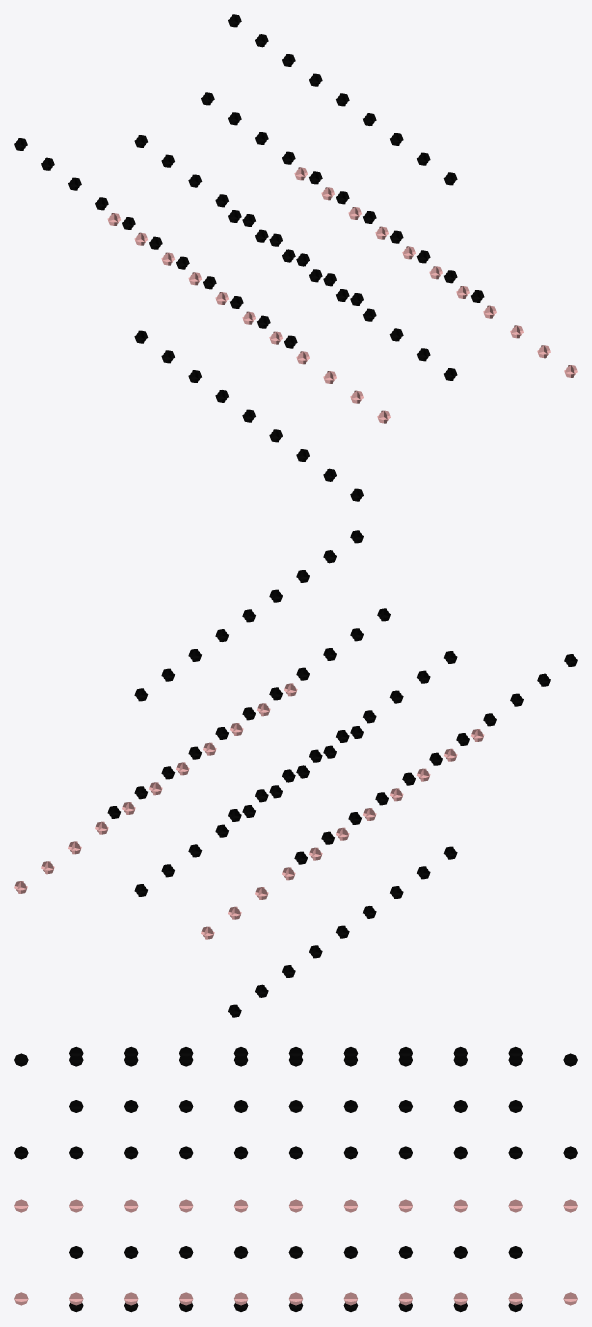
File: matchgraph_d=3_rounds=10_p=0.01.gltf
The picture shows the model from 3 angles, top to bottom: view 1: azimuth 30°, elevation 25°; view 2: azimuth 150°, elevation 25°; view 3: azimuth 270°, elevation 25°; orthographic projection.
Size of the model in its own units: 18.8 by 18.8 by 30.8.
